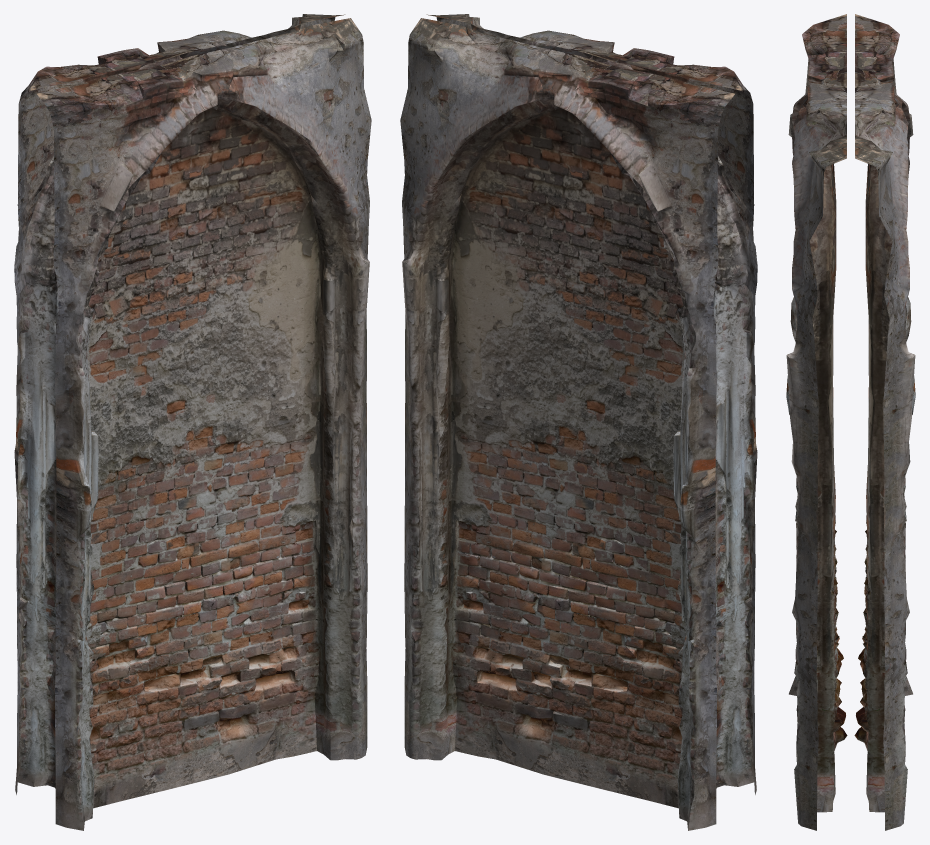
Rendered from SM_ChapelWall_01_13.fbx.
The picture shows the model from 3 angles, left to right: view 1: azimuth 30°, elevation 25°; view 2: azimuth 150°, elevation 25°; view 3: azimuth 270°, elevation 25°; orthographic projection. The views are drawn at different scales.
Visible parts, largest first — view 1: sm_ChapelWall_01_13_LOD0; view 2: sm_ChapelWall_01_13_LOD0; view 3: sm_ChapelWall_01_13_LOD0.
Boxes of the visible parts, left/top/right/bottom form: sm_ChapelWall_01_13_LOD0: left=14, top=14, right=371, bottom=830; sm_ChapelWall_01_13_LOD0: left=400, top=14, right=757, bottom=830; sm_ChapelWall_01_13_LOD0: left=786, top=14, right=915, bottom=830.
Size of the model in its own units: 94.9 by 250 by 546.
